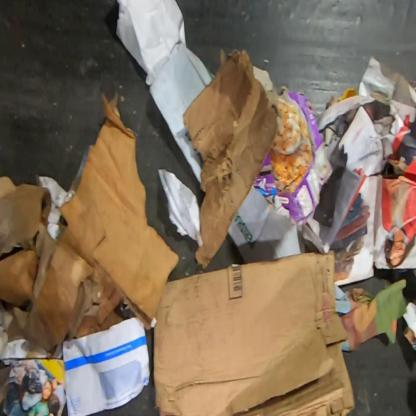cardboard: (152, 183, 357, 415), (55, 90, 180, 331), (0, 175, 127, 356), (183, 47, 279, 270), (254, 85, 333, 227), (148, 42, 215, 183), (228, 184, 303, 264), (252, 65, 275, 92)
soft_plastic: (64, 145, 92, 202)
